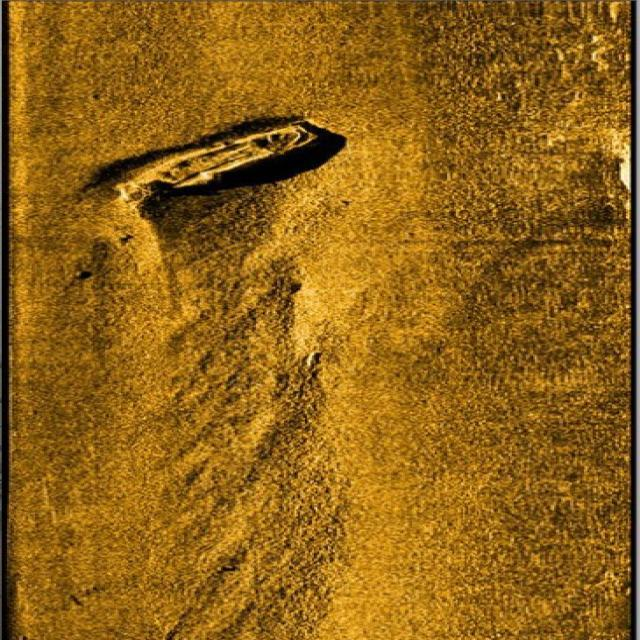shipwreck: (105, 112, 330, 207)
